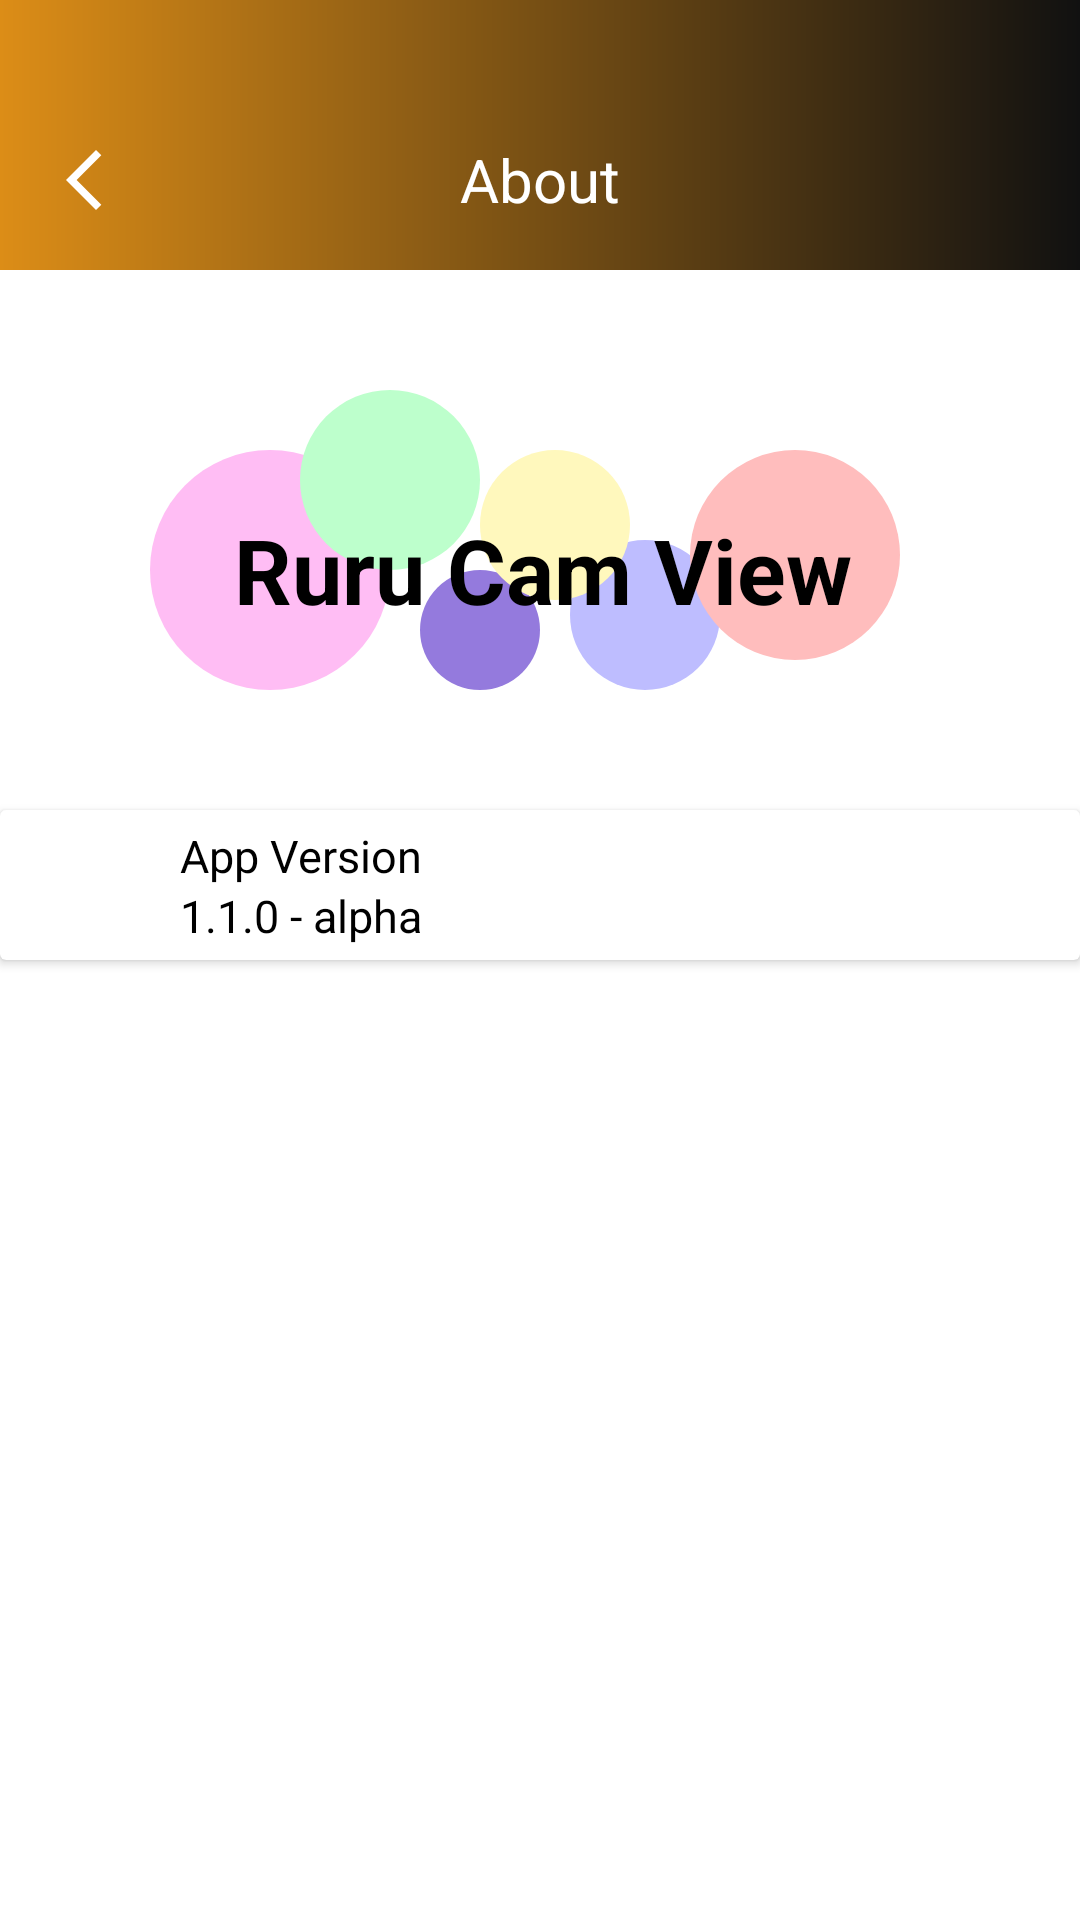

Locate icon controls on the screen. Image size 1080×1920, boxes as (x1, y1, x2, y2).
back: (66, 150, 101, 210)
